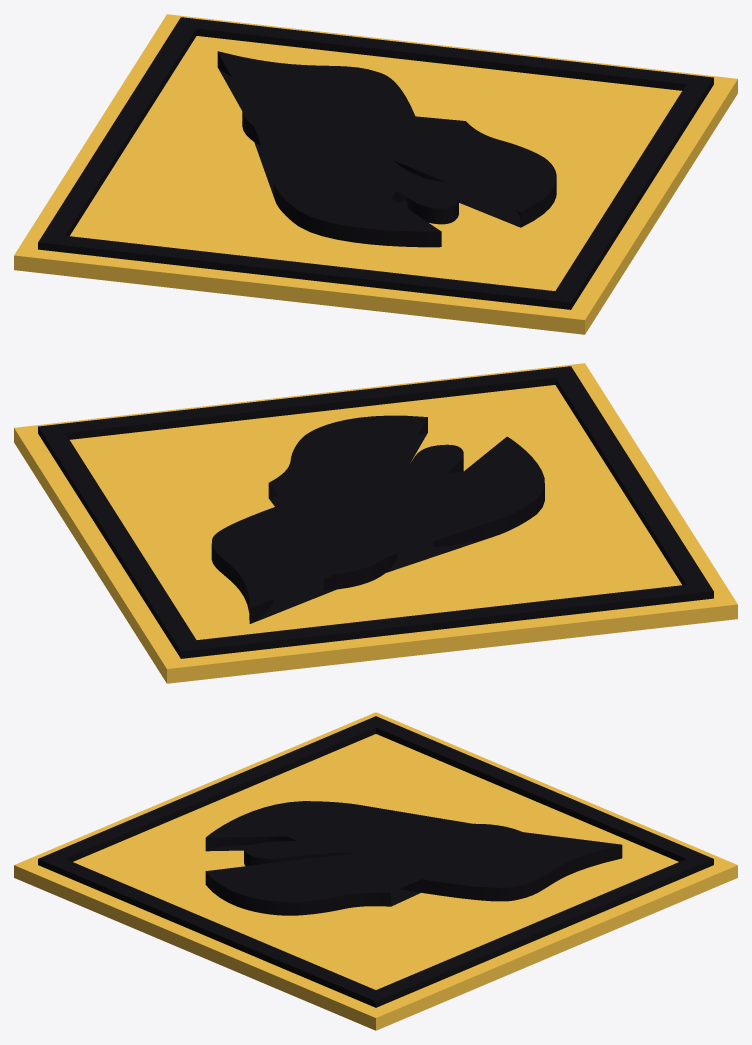
Rendered from FireWarningSign.fbx.
The picture shows the model from 3 angles, top to bottom: view 1: azimuth 30°, elevation 25°; view 2: azimuth 150°, elevation 25°; view 3: azimuth 270°, elevation 25°; orthographic projection. The views are drawn at different scales.
Parts seen in each view (by area): view 1: FireWarningSign; view 2: FireWarningSign; view 3: FireWarningSign.
Boxes of the visible parts, left/top/right/bottom form: FireWarningSign: left=14, top=14, right=737, bottom=334; FireWarningSign: left=14, top=363, right=737, bottom=683; FireWarningSign: left=14, top=712, right=737, bottom=1030.
Size of the model in its own units: 283 by 11.45 by 283.
